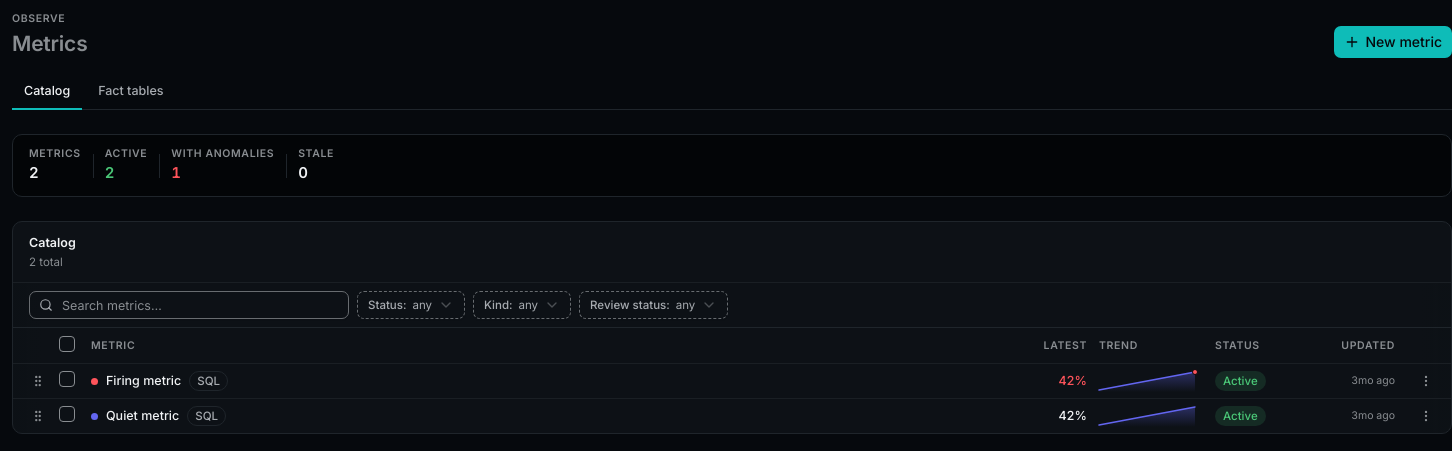
MetricsPage › operational stat bar and column context (tripl-nxk2.10 / tripl-nxk2.11) › restores the full list when the anomalies filter is toggled off
This screenshot has width=1452, height=451.
expect the link "Quiet metric" is shown: met, box [106,407,179,425]
Click the button "With anomalies 1". click: point(223, 166)
box: [163,143,282,188]
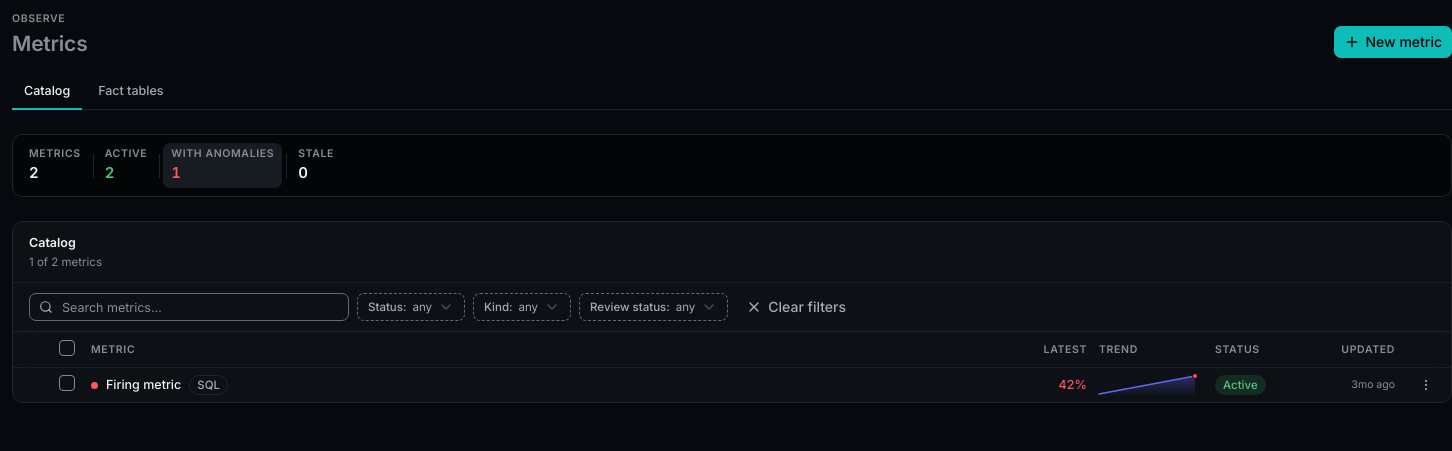
expect the link "Quiet metric" is gone: met
Clicking the active stat again clears the client-side filter.
Click the button "With anomalies 1". click: point(223, 166)
box: [163,143,282,188]
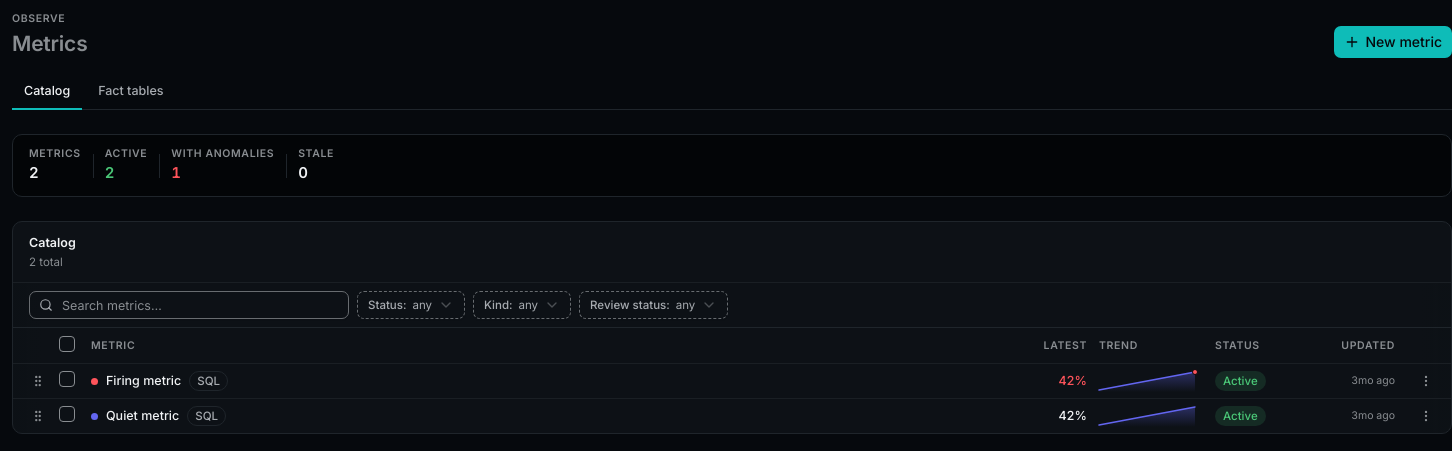
expect the link "Quiet metric" is shown: met, box [106,407,179,425]
